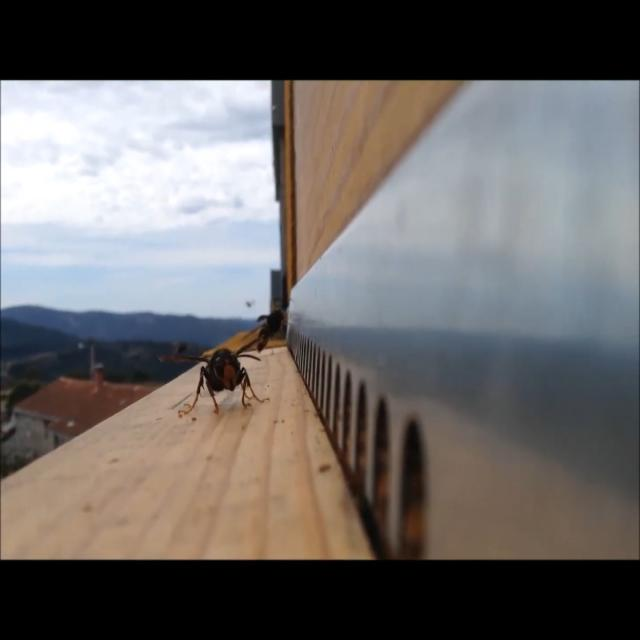Hornets: (157, 343, 272, 422), (254, 300, 294, 348)
